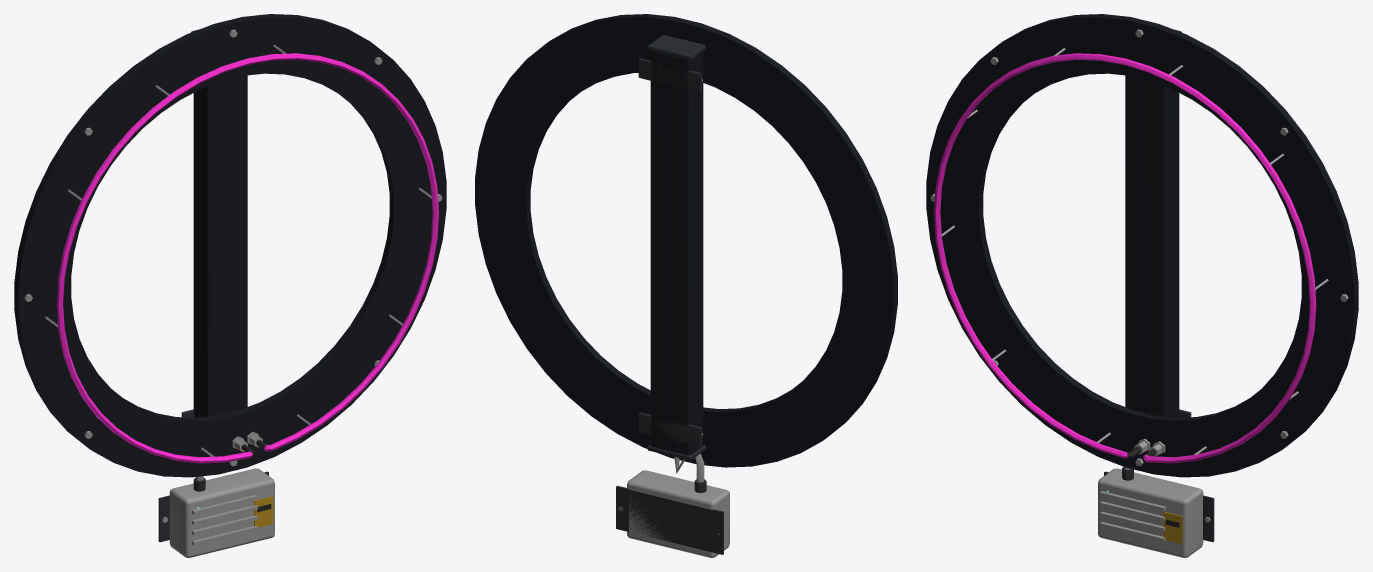
Rendered from Neon_Circle.fbx.
The picture shows the model from 3 angles, left to right: view 1: azimuth 30°, elevation 25°; view 2: azimuth 150°, elevation 25°; view 3: azimuth 330°, elevation 25°; orthographic projection. The views are drawn at different scales.
Parts seen in each view (by area): view 1: Neon_Circle_LOD0; view 2: Neon_Circle_LOD0; view 3: Neon_Circle_LOD0.
Part boxes in pixels (x1,y1,x2,y2): Neon_Circle_LOD0: (14,14,446,557); Neon_Circle_LOD0: (475,14,897,557); Neon_Circle_LOD0: (926,14,1358,557).
Size of what is drawn, in the model's own units: 1.14 by 1.34 by 0.1695.
